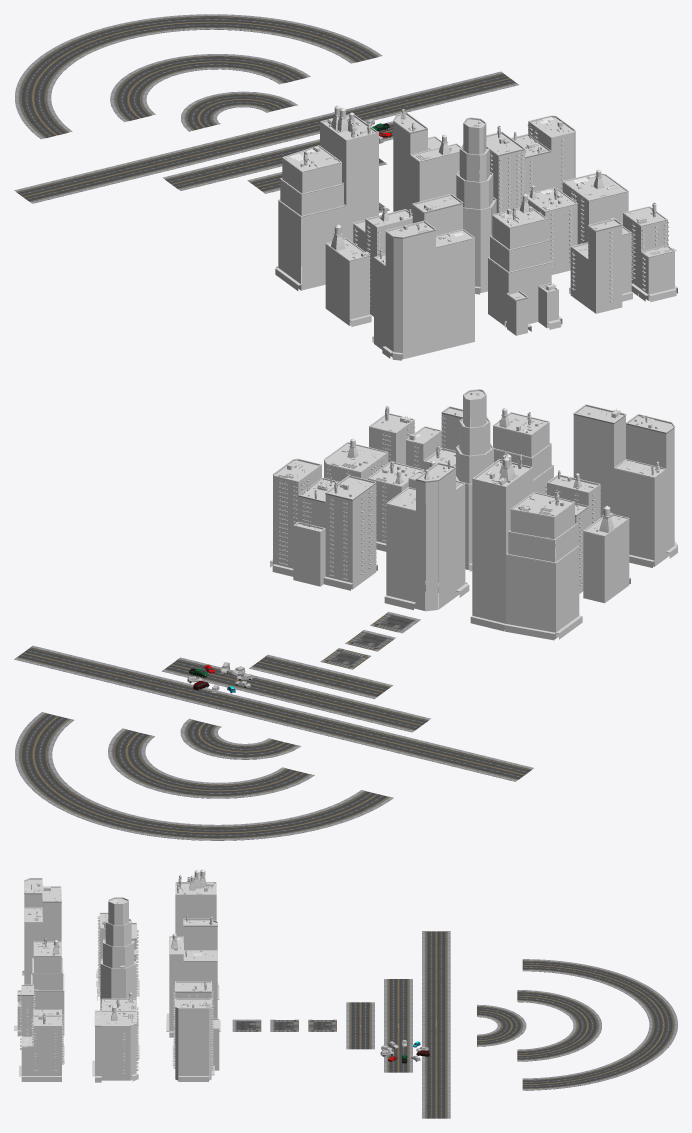
The model's file is Buildings.fbx.
3 views of the same model, one above another, from view 1: azimuth 30°, elevation 25°; view 2: azimuth 150°, elevation 25°; view 3: azimuth 270°, elevation 25° (orthographic). The views are drawn at different scales.
Visible parts, largest first — view 1: Bldg2, Bldg7, Road_4X_HalfCircle, Road_4X_Straight, Bldg10, Bldg3, Bldg6, Bldg11, Road_2X_HalfCircle, Bldg9, Bldg12, Bldg8 (+5 smaller); view 2: Bldg7, Bldg2, Bldg3, Bldg6, Road_4X_Straight, Road_4X_HalfCircle, Road_2X_HalfCircle, Road_2X_Straight, Bldg8, Bldg9, Bldg10, Road_1X_Straight (+6 smaller); view 3: Road_4X_HalfCircle, Road_4X_Straight, Bldg3, Bldg6, Bldg4, Bldg9, Road_2X_HalfCircle, Bldg2, Bldg12, Road_2X_Straight, Bldg10, Bldg7 (+6 smaller).
Part boxes in pixels (bbox=[...]): Bldg2: bbox=[372, 194, 474, 360]; Bldg7: bbox=[275, 105, 378, 290]; Road_4X_HalfCircle: bbox=[15, 14, 382, 139]; Road_4X_Straight: bbox=[14, 71, 518, 203]; Bldg10: bbox=[487, 194, 562, 335]; Bldg3: bbox=[486, 115, 575, 213]; Bldg6: bbox=[393, 109, 460, 213]; Bldg11: bbox=[569, 218, 632, 313]; Road_2X_HalfCircle: bbox=[110, 54, 310, 121]; Bldg9: bbox=[455, 117, 496, 294]; Bldg12: bbox=[623, 202, 677, 302]; Bldg8: bbox=[325, 224, 371, 326]; Bldg7: bbox=[470, 451, 582, 640]; Bldg2: bbox=[573, 404, 677, 567]; Bldg3: bbox=[270, 458, 377, 590]; Bldg6: bbox=[384, 460, 469, 611]; Road_4X_Straight: bbox=[14, 645, 533, 781]; Road_4X_HalfCircle: bbox=[15, 712, 393, 840]; Road_2X_HalfCircle: bbox=[108, 728, 314, 798]; Road_2X_Straight: bbox=[162, 657, 430, 732]; Bldg8: bbox=[583, 505, 630, 603]; Bldg9: bbox=[456, 389, 493, 571]; Bldg10: bbox=[492, 408, 554, 494]; Road_1X_Straight: bbox=[249, 654, 392, 698]; Road_4X_HalfCircle: bbox=[522, 959, 677, 1090]; Road_4X_Straight: bbox=[422, 931, 450, 1118]; Bldg3: bbox=[172, 981, 219, 1081]; Bldg6: bbox=[166, 915, 220, 1037]; Bldg4: bbox=[92, 1006, 138, 1082]; Bldg9: bbox=[100, 897, 136, 1010]; Road_2X_HalfCircle: bbox=[517, 990, 601, 1061]; Bldg2: bbox=[22, 878, 63, 984]; Bldg12: bbox=[19, 1013, 63, 1081]; Road_2X_Straight: bbox=[384, 979, 412, 1072]; Bldg10: bbox=[14, 937, 64, 1036]; Bldg7: bbox=[175, 869, 219, 999].
Bounding box in the file's own units: 35527 × 11254 × 53187.
